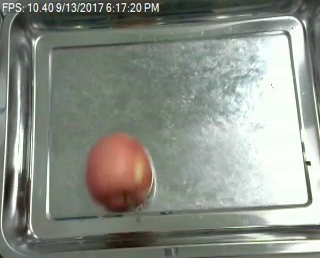Apple: (85, 131, 154, 215)
